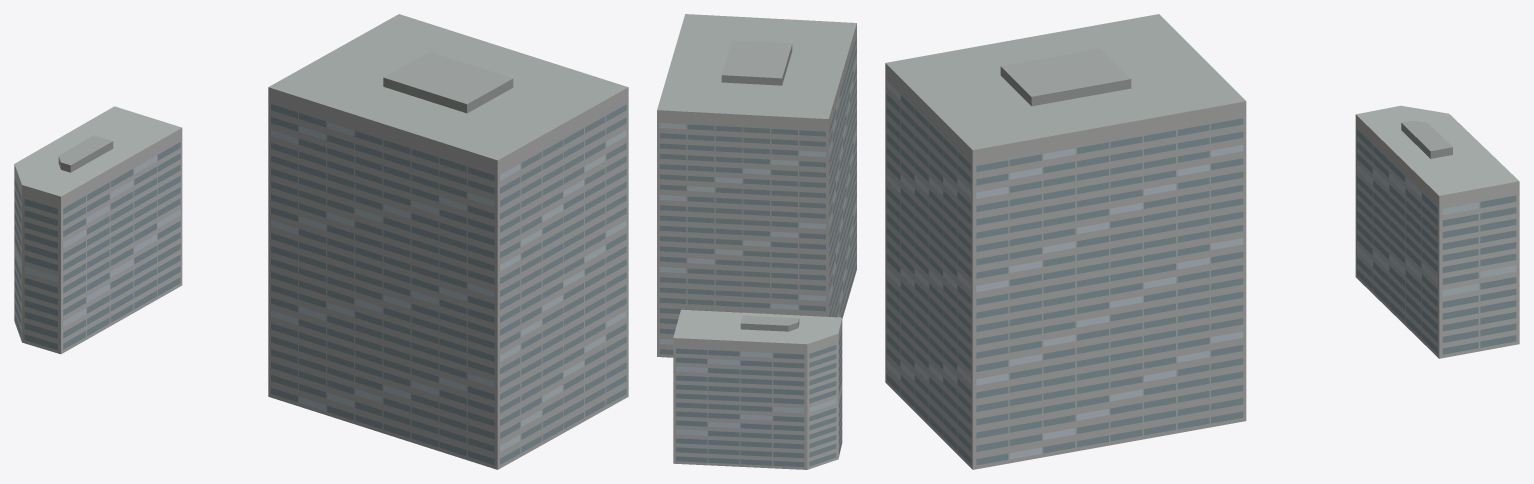
Rendered from apt-a15805301.glb.
3 renders of one model, left to right at view 1: azimuth 30°, elevation 25°; view 2: azimuth 150°, elevation 25°; view 3: azimuth 270°, elevation 25°, orthographic. The views are drawn at different scales.
Visible parts, largest first — view 1: apt-a15805301; view 2: apt-a15805301; view 3: apt-a15805301.
Part boxes in pixels (left/top/right/bottom): apt-a15805301: left=14, top=14, right=628, bottom=469; apt-a15805301: left=657, top=14, right=856, bottom=469; apt-a15805301: left=885, top=14, right=1519, bottom=469.
Size of the model in its own units: 109 by 83 by 145.
